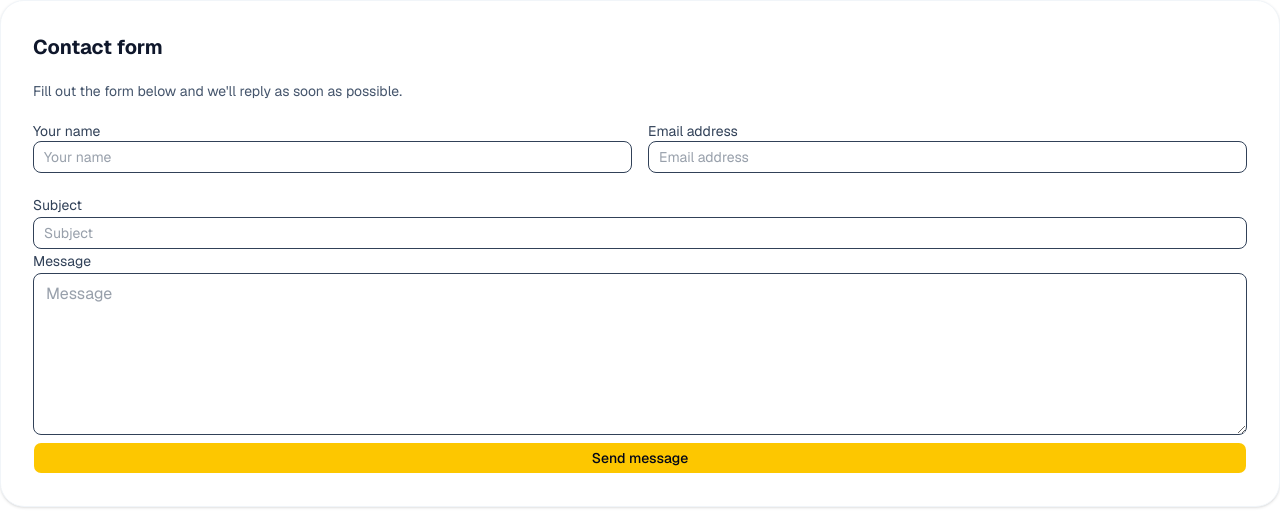
it: ContactForm › disables the submit button while the request is in flight
Type "Alice Tremblay" into the field with placeholder "Your name".
click(332, 157); type("Alice Tremblay")  # box [33,141,632,173]
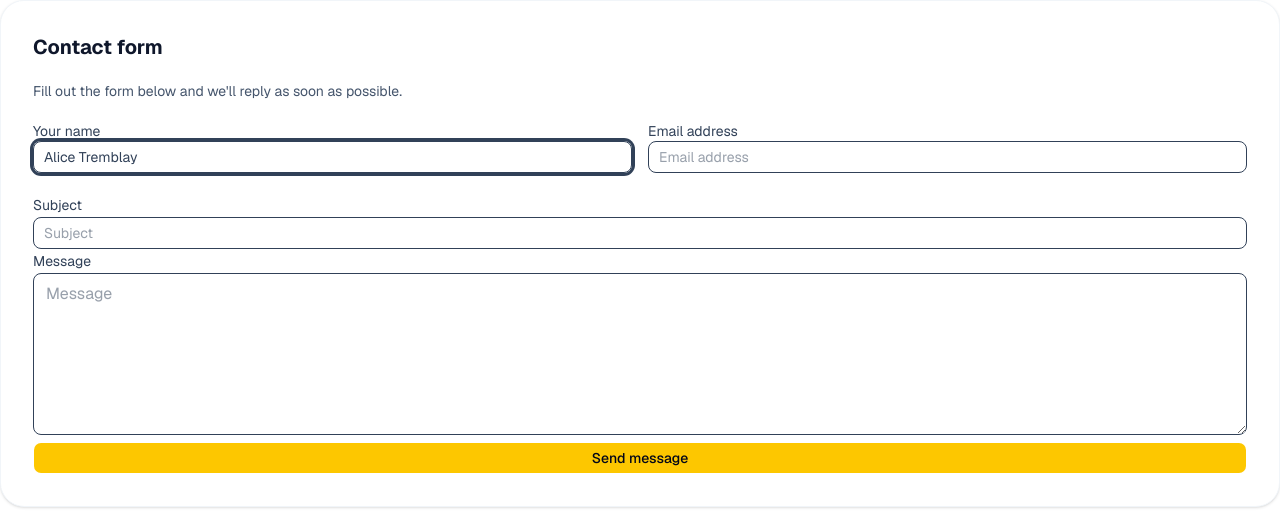
Type "alice@example.com" into the field with placeholder "Email address".
click(948, 157); type("alice@example.com")  # box [648,141,1247,173]
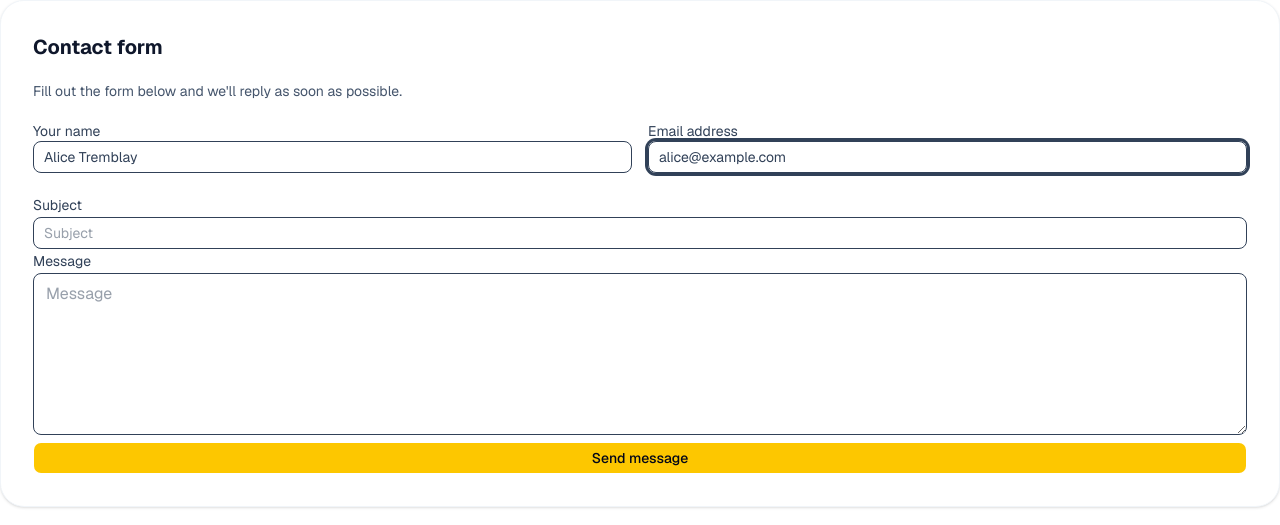
Type "Website Quote" into the field with placeholder "Subject".
click(640, 233); type("Website Quote")  # box [33,217,1247,249]
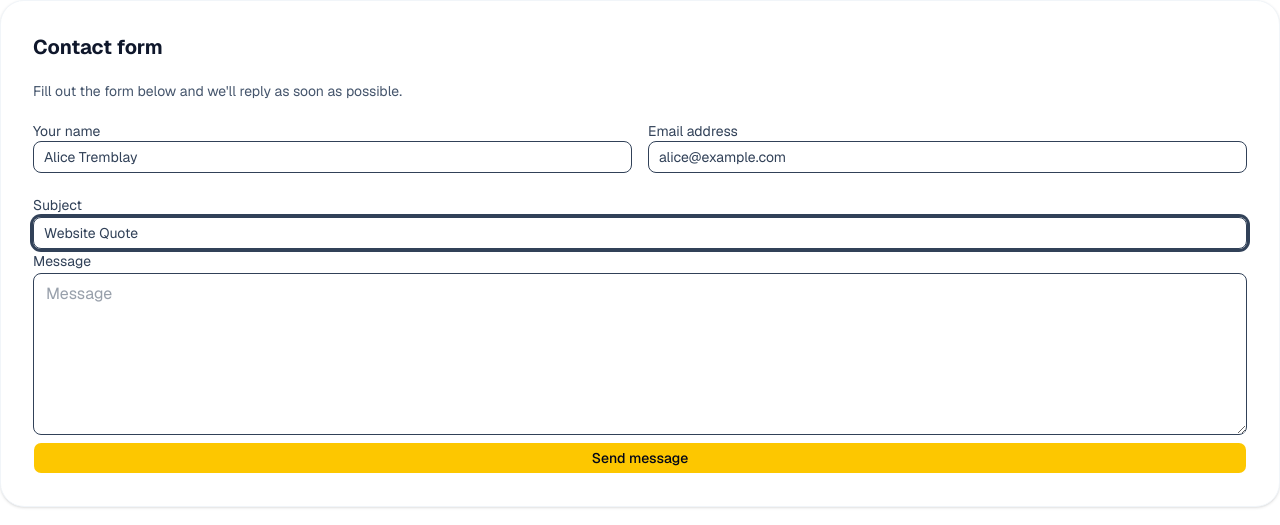
Type "I would like a quote." into the text box with placeholder "Message".
click(640, 354); type("I would like a quote.")  # box [33,273,1247,435]
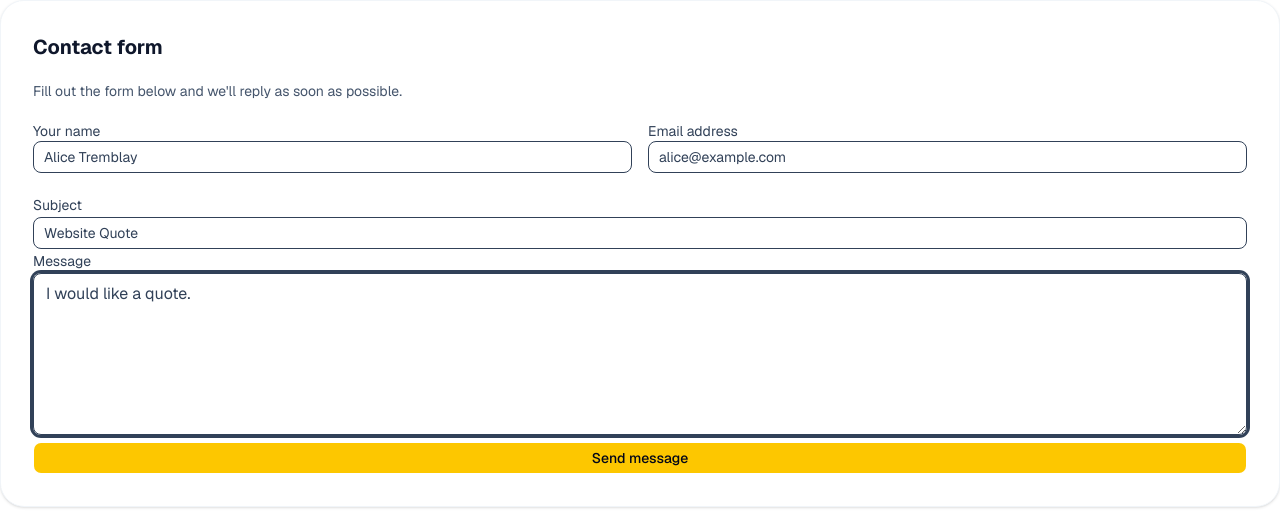
Click the button "Send message".
click(640, 458)  # box [33,442,1247,474]
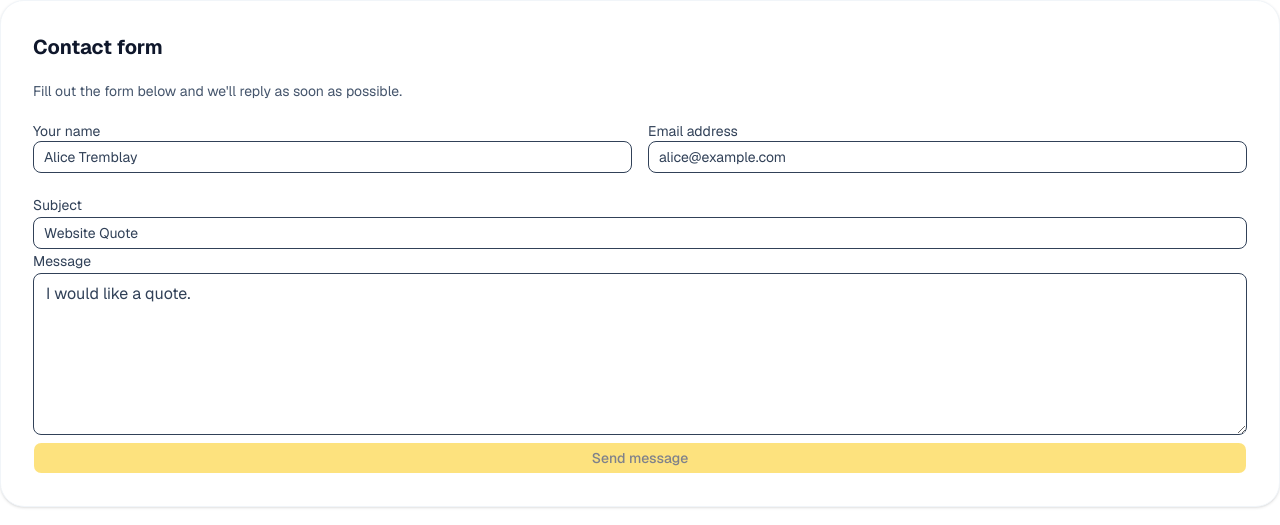
Expected: the button "Send message" is disabled, [33,442,1247,474]
